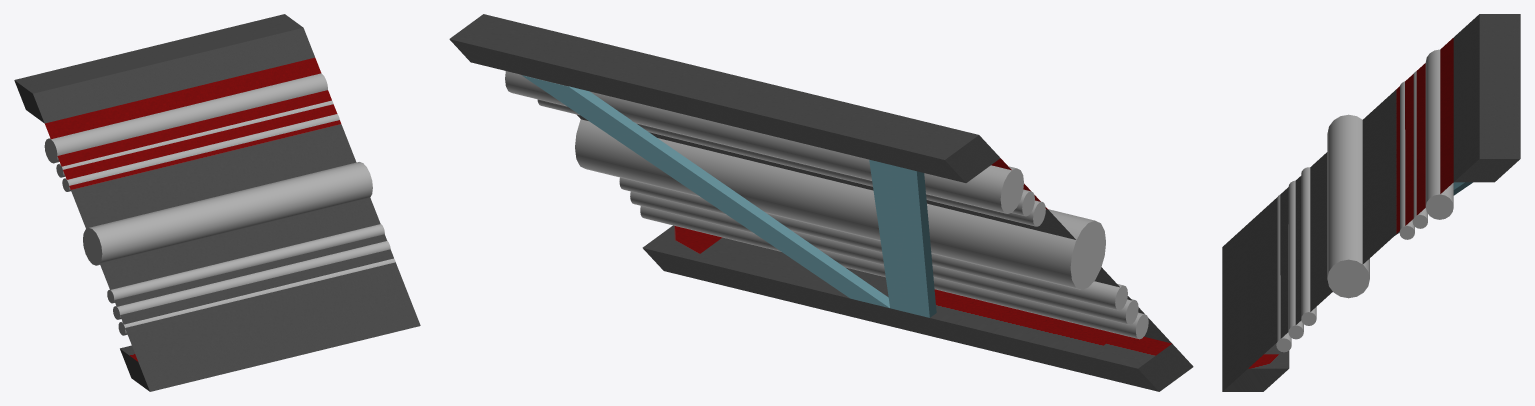
The model's file is Ceiling_SlantedSides.fbx.
The picture shows the model from 3 angles, left to right: view 1: azimuth 30°, elevation 25°; view 2: azimuth 150°, elevation 25°; view 3: azimuth 270°, elevation 25°; orthographic projection. The views are drawn at different scales.
Visible parts, largest first — view 1: Corridor_Ceiling_SlantedSides; view 2: Corridor_Ceiling_SlantedSides; view 3: Corridor_Ceiling_SlantedSides.
Boxes of the visible parts, box(x1,y1,x2,y2) form: Corridor_Ceiling_SlantedSides: box(14, 14, 420, 391); Corridor_Ceiling_SlantedSides: box(449, 14, 1193, 391); Corridor_Ceiling_SlantedSides: box(1222, 14, 1520, 391).
Bounding box in the file's own units: 200 × 150 × 174.
2 materials, 1 textured.
